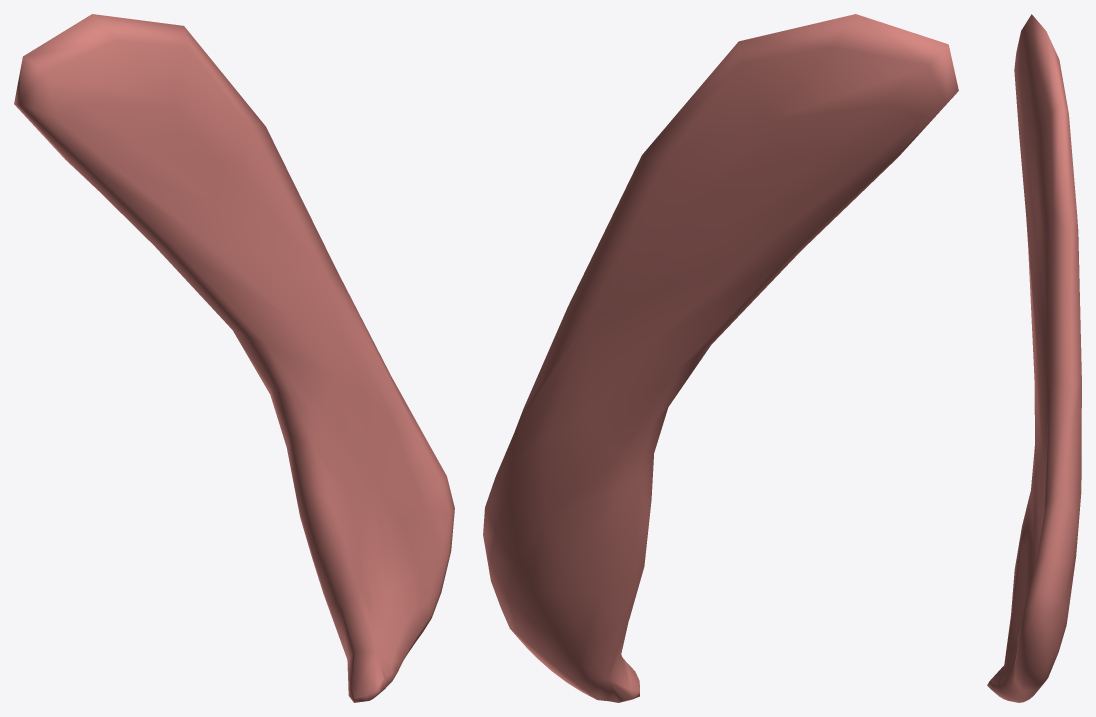
The picture shows the model from 3 angles, left to right: view 1: azimuth 30°, elevation 25°; view 2: azimuth 150°, elevation 25°; view 3: azimuth 270°, elevation 25°; orthographic projection. The views are drawn at different scales.
Parts seen in each view (by area): view 1: ZA_9e4bccf7cf932216; view 2: ZA_9e4bccf7cf932216; view 3: ZA_9e4bccf7cf932216.
Boxes of the visible parts, x1,y1,x2,y2 form: ZA_9e4bccf7cf932216: (14, 14, 454, 702); ZA_9e4bccf7cf932216: (483, 14, 958, 702); ZA_9e4bccf7cf932216: (987, 14, 1081, 702).
Bounding box in the file's own units: 0.00539 × 0.00854 × 0.00128.
